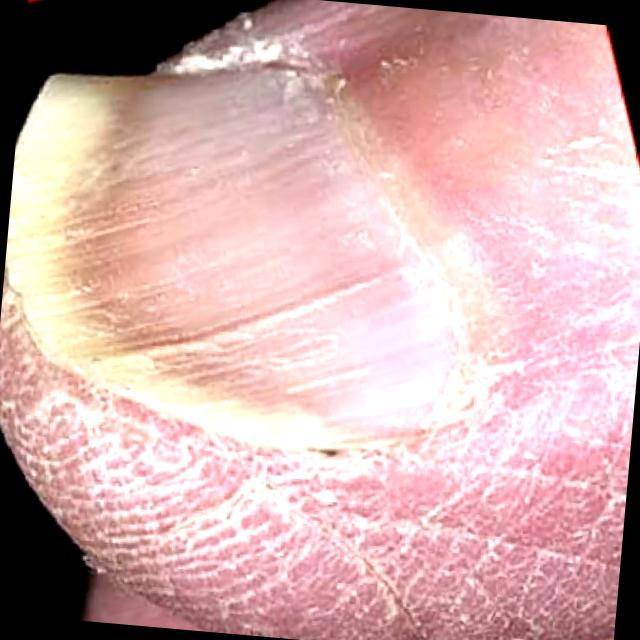Nail: (9, 56, 460, 449)
